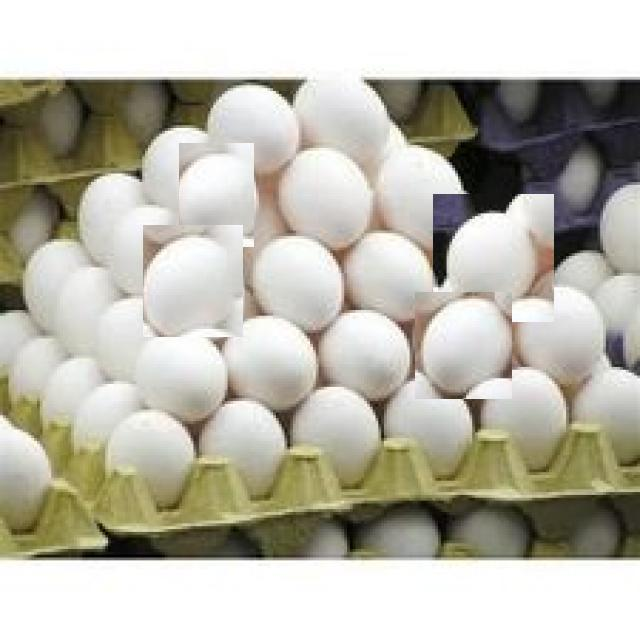Egg: (433, 194, 554, 322), (143, 225, 243, 338), (249, 228, 348, 342), (276, 137, 376, 246), (342, 218, 437, 332), (415, 292, 512, 399), (124, 331, 230, 418), (179, 143, 254, 247)
